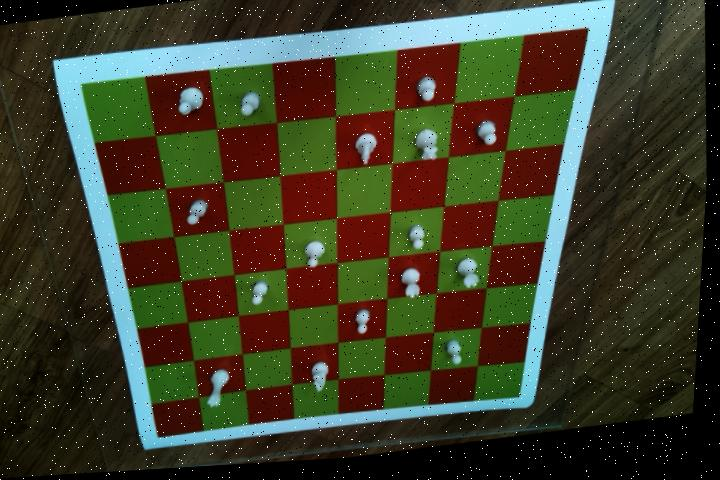chessboard-detect: (79, 34, 590, 441)
